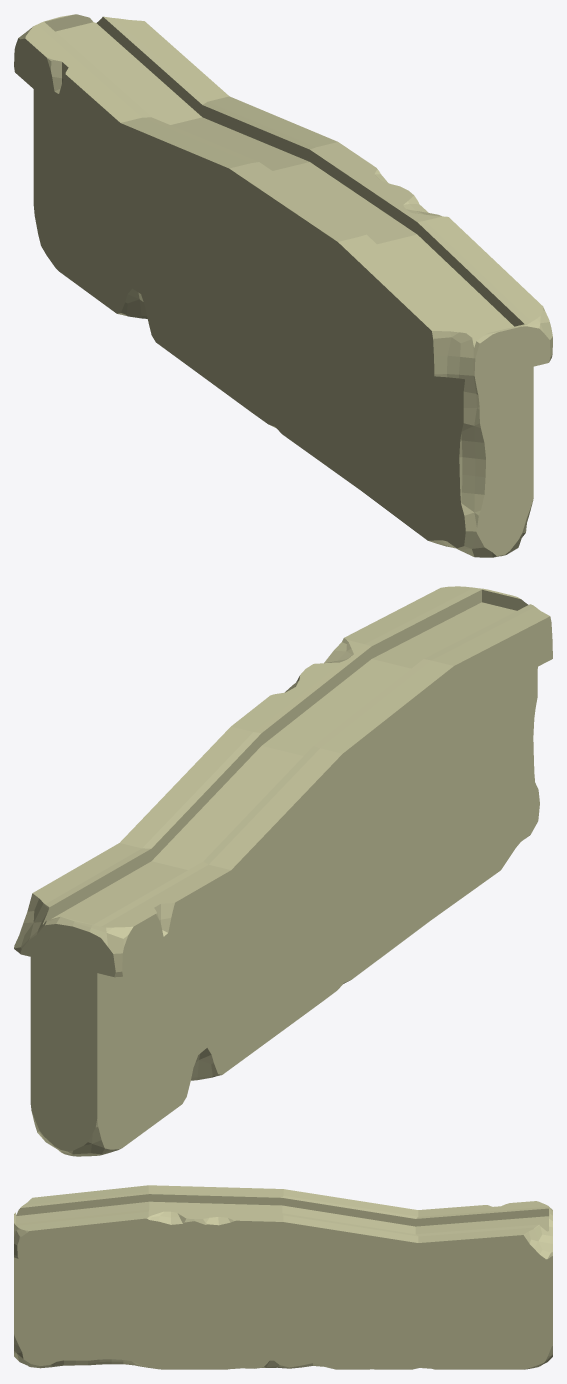
Rendered from Muralla1.fbx.
3 renders of one model, top to bottom at view 1: azimuth 30°, elevation 25°; view 2: azimuth 150°, elevation 25°; view 3: azimuth 270°, elevation 25°, orthographic. The views are drawn at different scales.
Parts seen in each view (by area): view 1: Cube_dmg; view 2: Cube_dmg; view 3: Cube_dmg.
Boxes of the visible parts, <box> form: Cube_dmg: <box>14,14,552,557</box>; Cube_dmg: <box>14,586,552,1156</box>; Cube_dmg: <box>14,1185,552,1369</box>.
Size of the model in its own units: 531 by 1185 by 3662.
